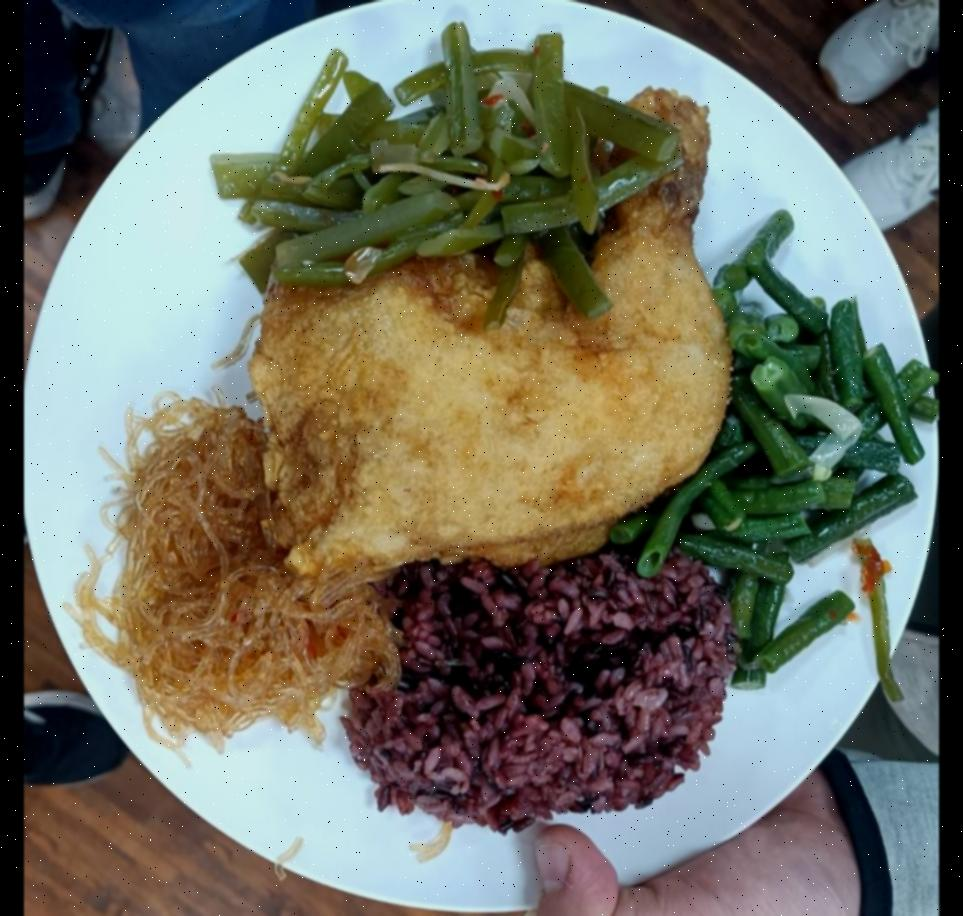big fried chicken leg: (259, 97, 729, 572)
plate: (23, 0, 939, 909)
purple rice: (358, 549, 745, 823)
side dish: (217, 29, 687, 324), (633, 262, 935, 680), (104, 404, 391, 757)
